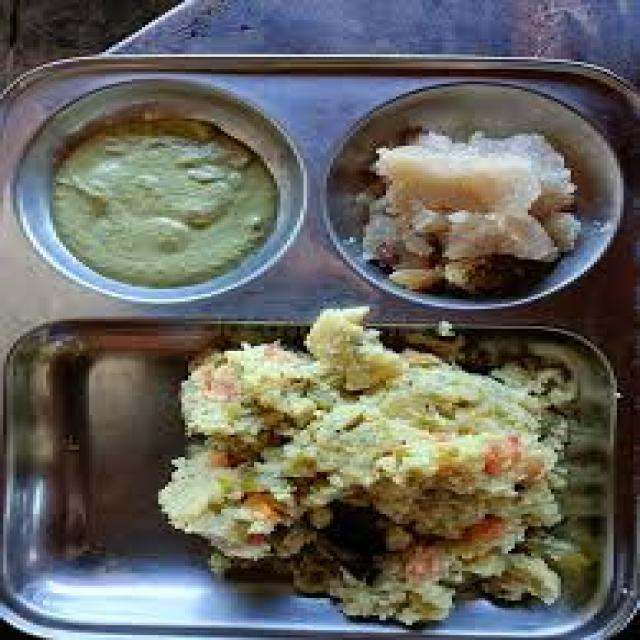UPMA: (155, 311, 587, 615), (346, 124, 574, 292)
